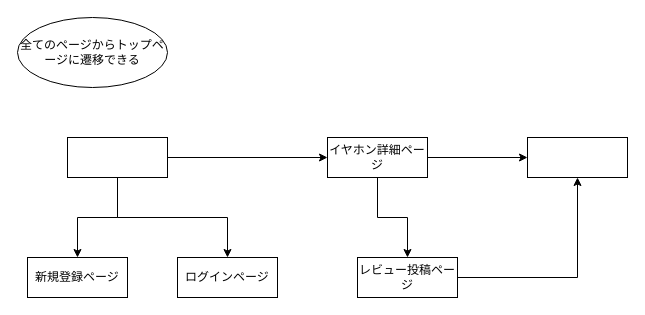
This 645x315 diagram has some shape labels left out. The shapes that lost their labels are listed below. From the top down, each one's box as (x1, y1, x2, y2) in pixels, then its label:
(66, 136, 168, 178): トップページ
(526, 136, 628, 178): レビュー一覧ページ
